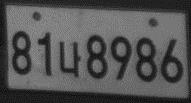1: (37, 30, 52, 78)
6: (160, 38, 183, 83)
8: (86, 34, 109, 80), (135, 37, 157, 82), (11, 29, 32, 75)
9: (110, 35, 133, 82)
나: (57, 39, 82, 79)
